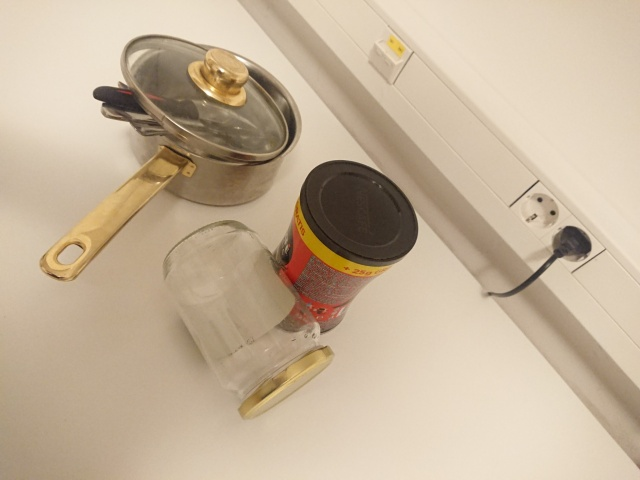Nescafe Classic 225g: (249, 156, 423, 337)
